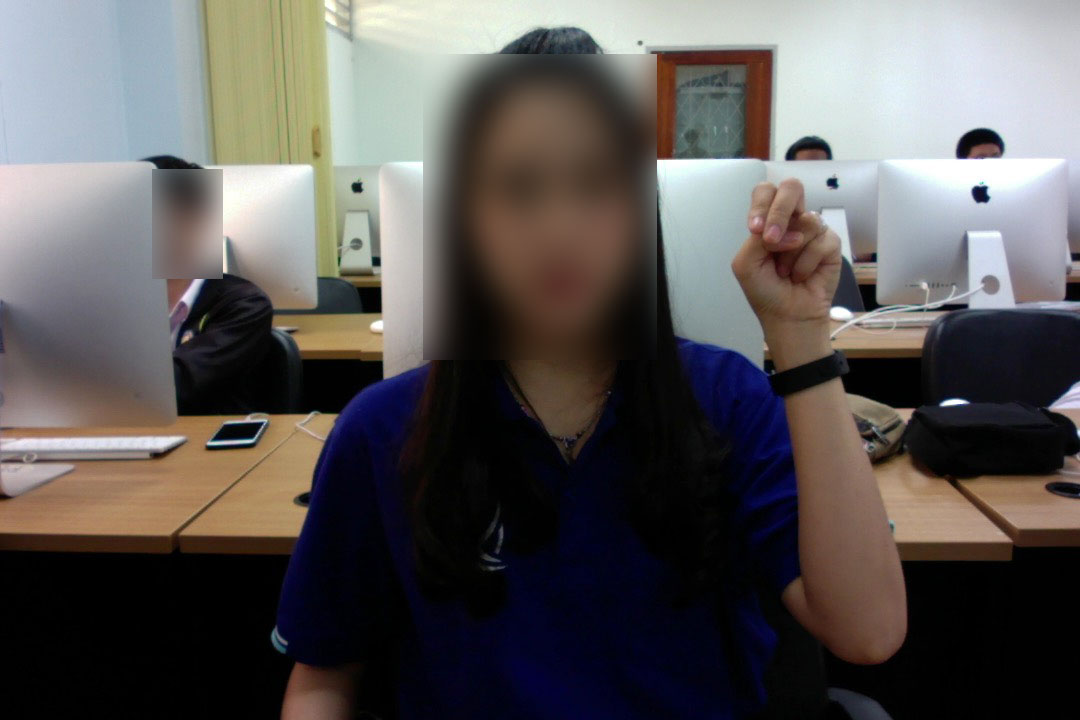nor: (728, 174, 851, 345)
